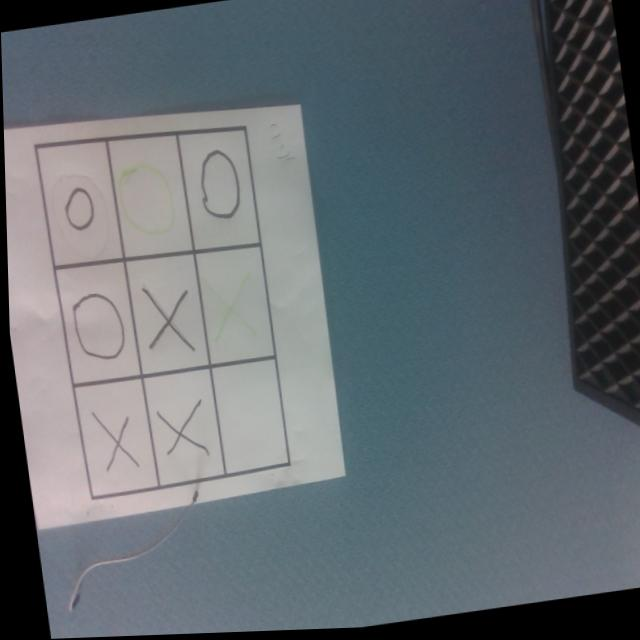null: (209, 357, 286, 475)
o: (111, 162, 176, 242), (67, 289, 126, 367), (194, 149, 243, 225), (60, 185, 95, 234)
table: (33, 114, 288, 502)
x: (198, 268, 267, 365), (138, 277, 193, 359), (87, 404, 136, 476), (152, 398, 207, 462)
